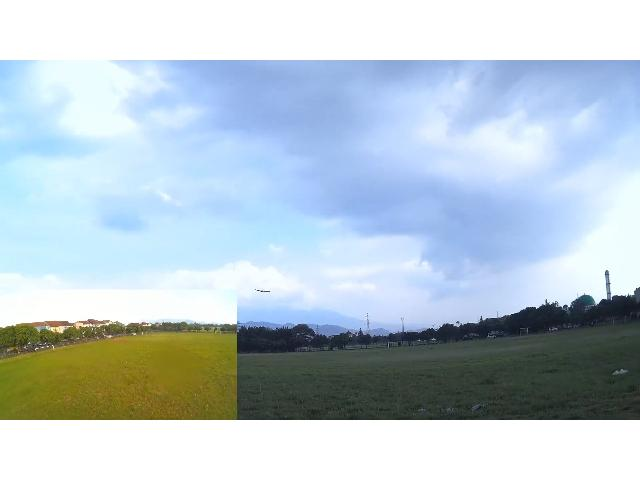Anti-Drone: (252, 274, 284, 298)
